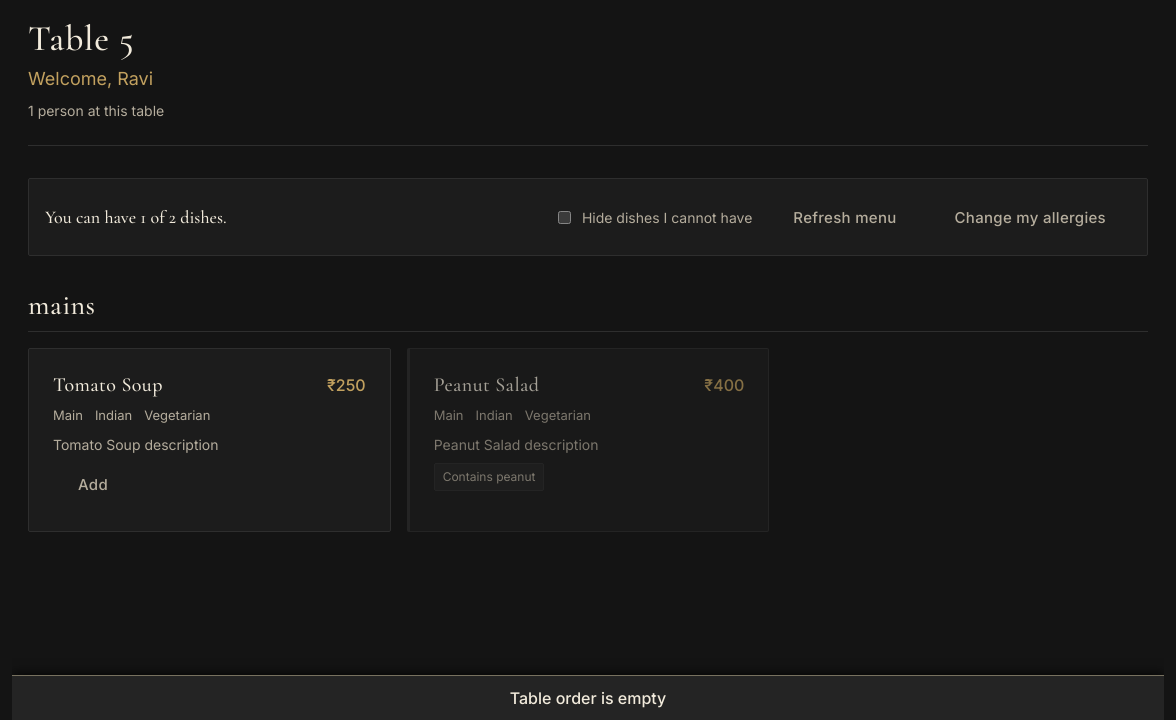
Scenario: GuestTable integration tests › 8. a NOT_SAFE answer shows "Not added. Contains peanut" and reloads the menu
Click the button "Add".
click(93, 484)  # box [53,462,133,506]
Wait 10 ms
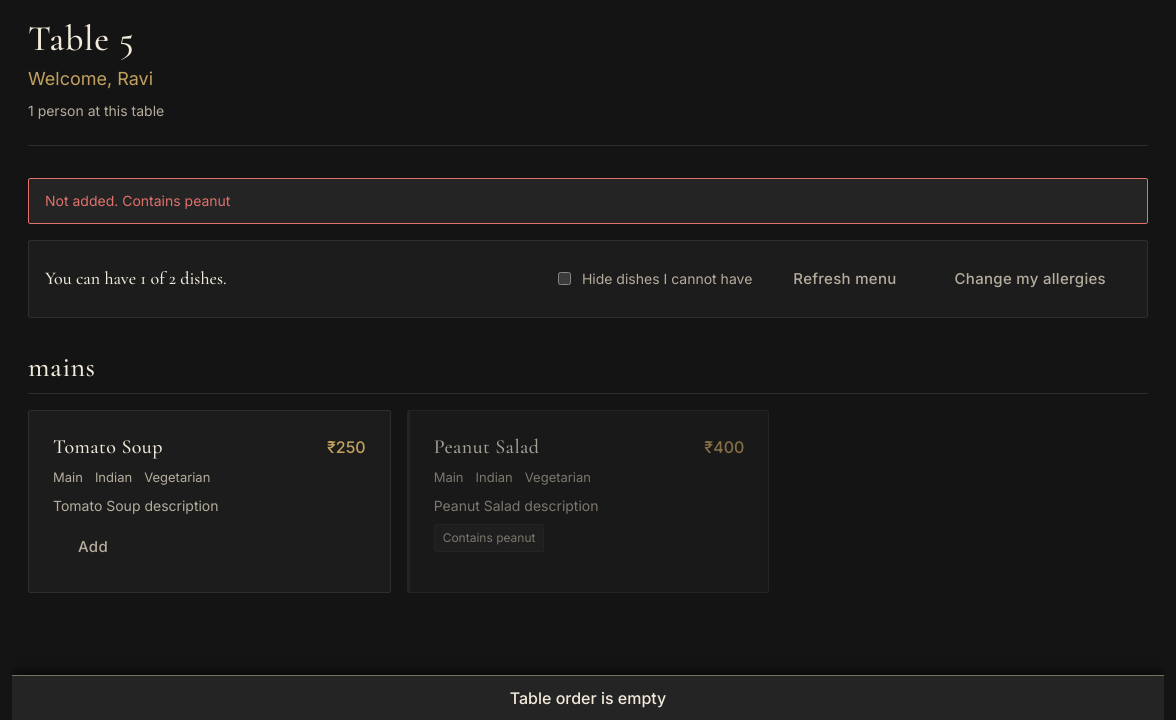
Expected: the text "Not added. Contains peanut" is shown, [28,178,1148,224]
